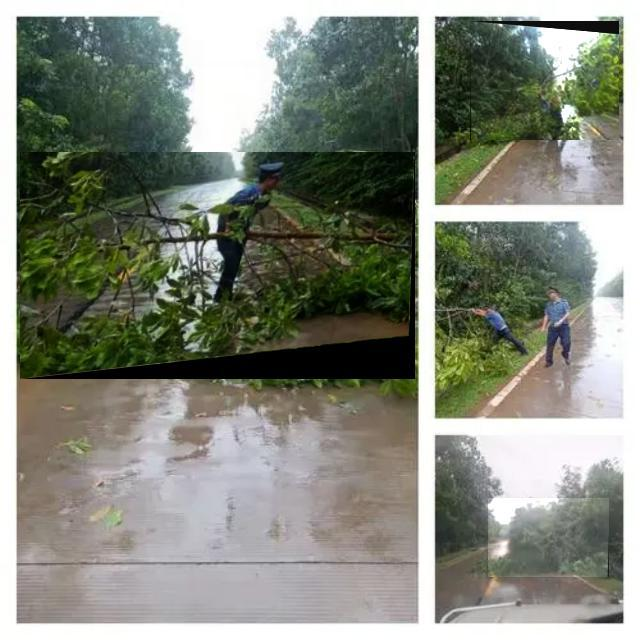fallen_tree: (20, 152, 416, 380), (470, 21, 620, 141), (488, 498, 610, 578)
